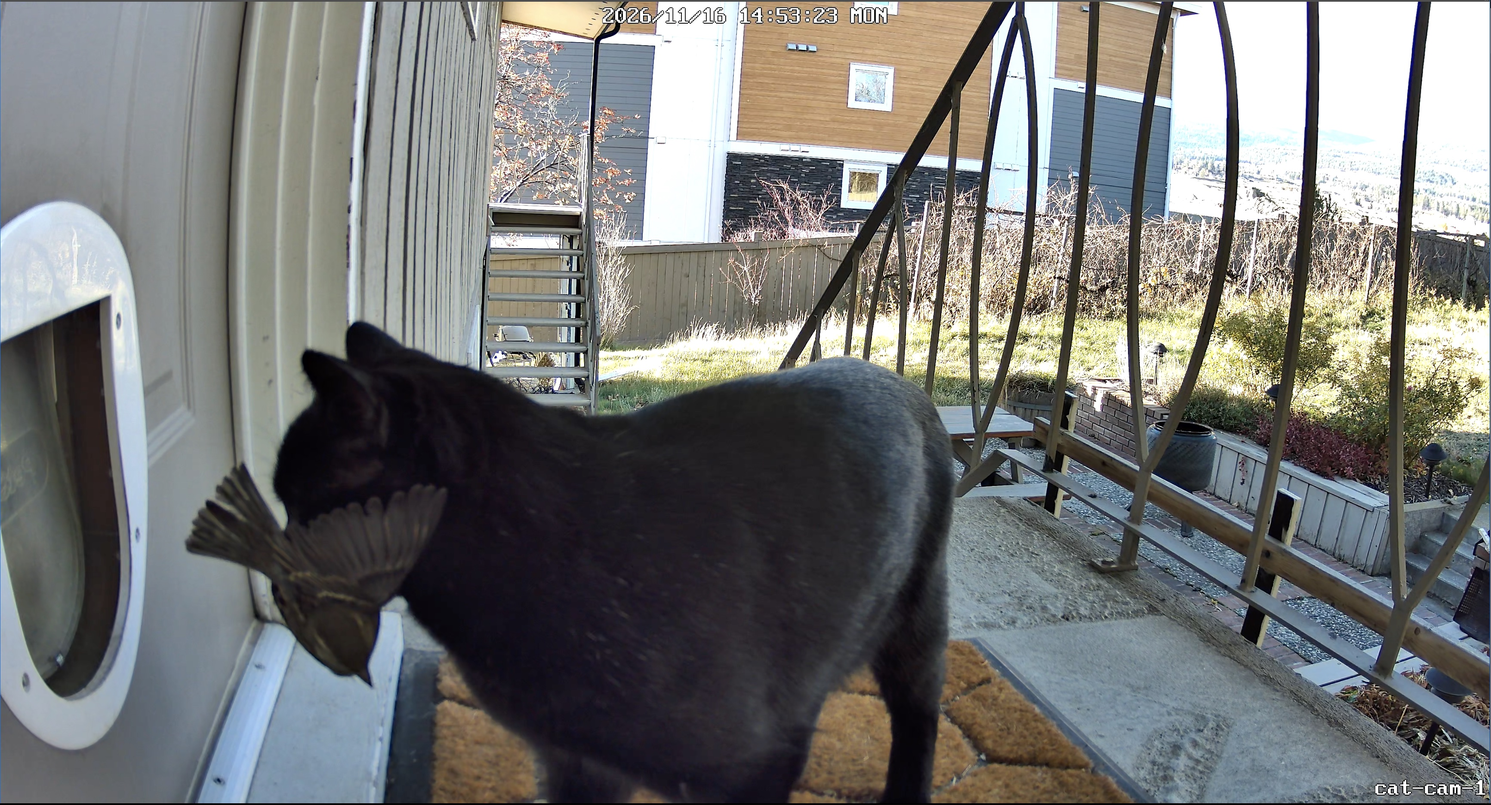prey: (186, 455, 447, 684)
